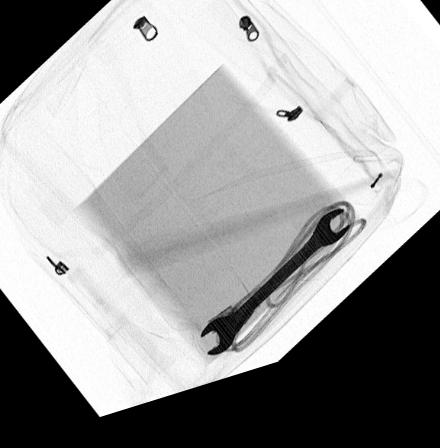Wrench: (199, 227, 352, 368)
